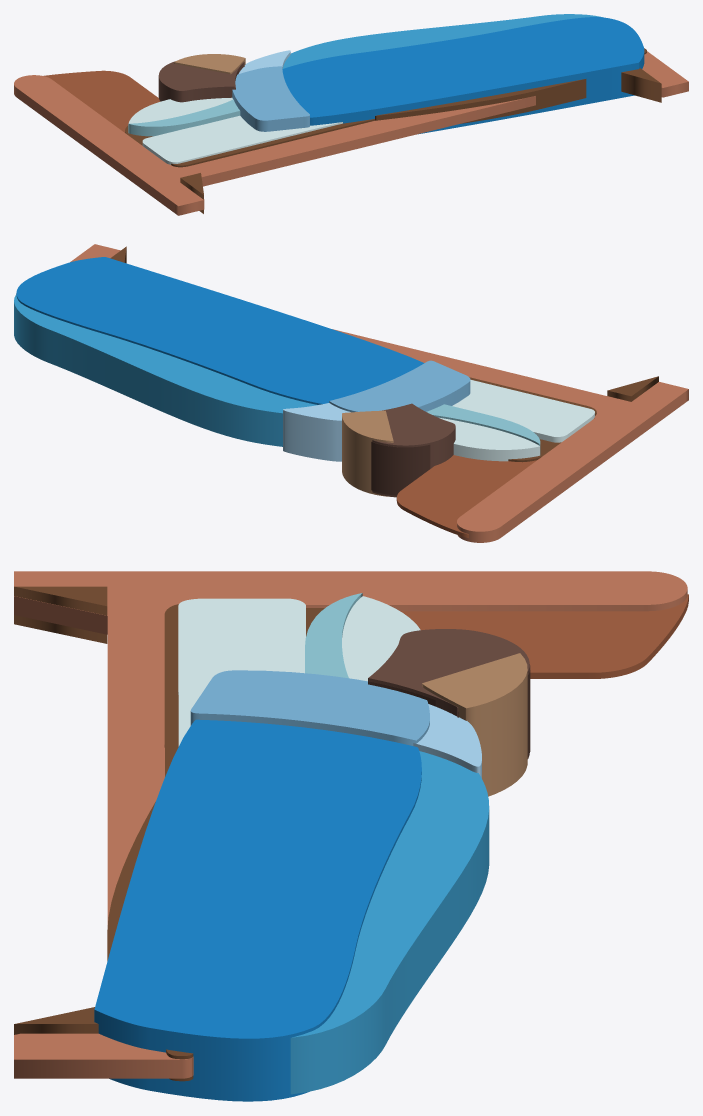
The model's file is emoji_u1f6cc_1f3fd.glb.
3 views of the same model, one above another, from view 1: azimuth 30°, elevation 25°; view 2: azimuth 150°, elevation 25°; view 3: azimuth 270°, elevation 25° (orthographic). The views are drawn at different scales.
Parts seen in each view (by area): view 1: emoji_u1f6cc_1f3fd; view 2: emoji_u1f6cc_1f3fd; view 3: emoji_u1f6cc_1f3fd.
Part boxes in pixels (x1=…): emoji_u1f6cc_1f3fd: x1=14, y1=14, x2=688, y2=215; emoji_u1f6cc_1f3fd: x1=14, y1=244, x2=688, y2=542; emoji_u1f6cc_1f3fd: x1=14, y1=571, x2=688, y2=1101.
Bounding box in the file's own units: 0.0334 × 0.003 × 0.0195.
